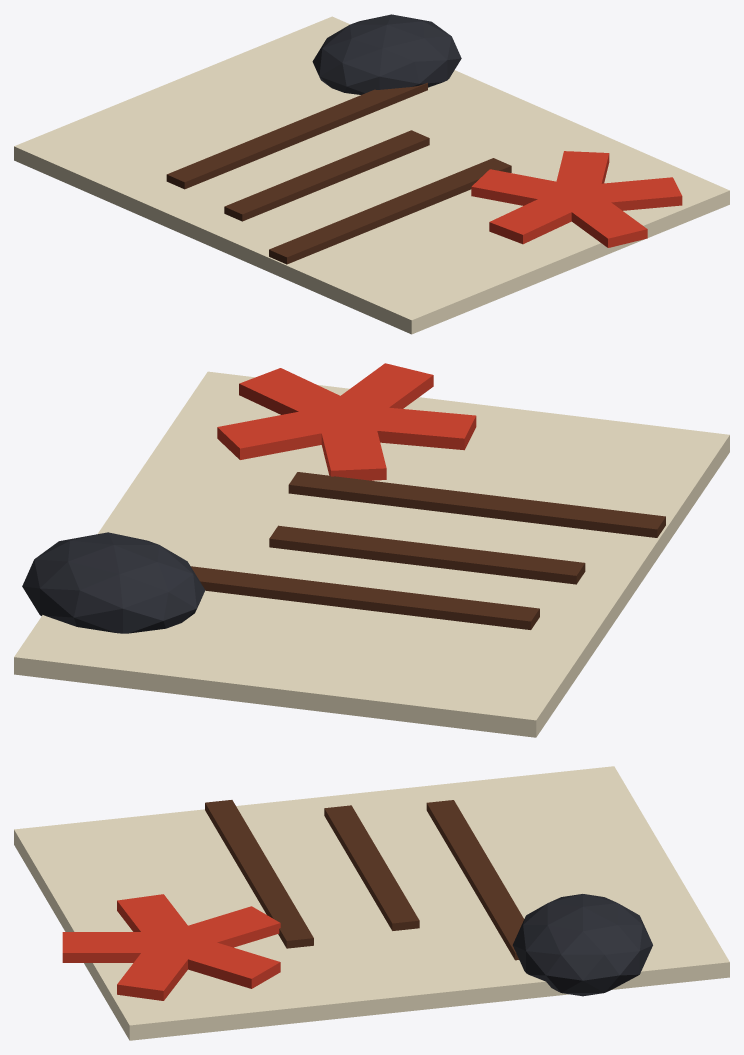
File: maple_page.glb
3 renders of one model, top to bottom at view 1: azimuth 30°, elevation 25°; view 2: azimuth 150°, elevation 25°; view 3: azimuth 270°, elevation 25°, orthographic. The views are drawn at different scales.
Visible parts, largest first — view 1: maple_page; view 2: maple_page; view 3: maple_page.
Boxes of the visible parts, bbox=[...] form: maple_page: bbox=[14, 14, 729, 334]; maple_page: bbox=[14, 363, 729, 737]; maple_page: bbox=[14, 766, 729, 1040].
Size of the model in its own units: 0.4363 by 0.06 by 0.5092.
